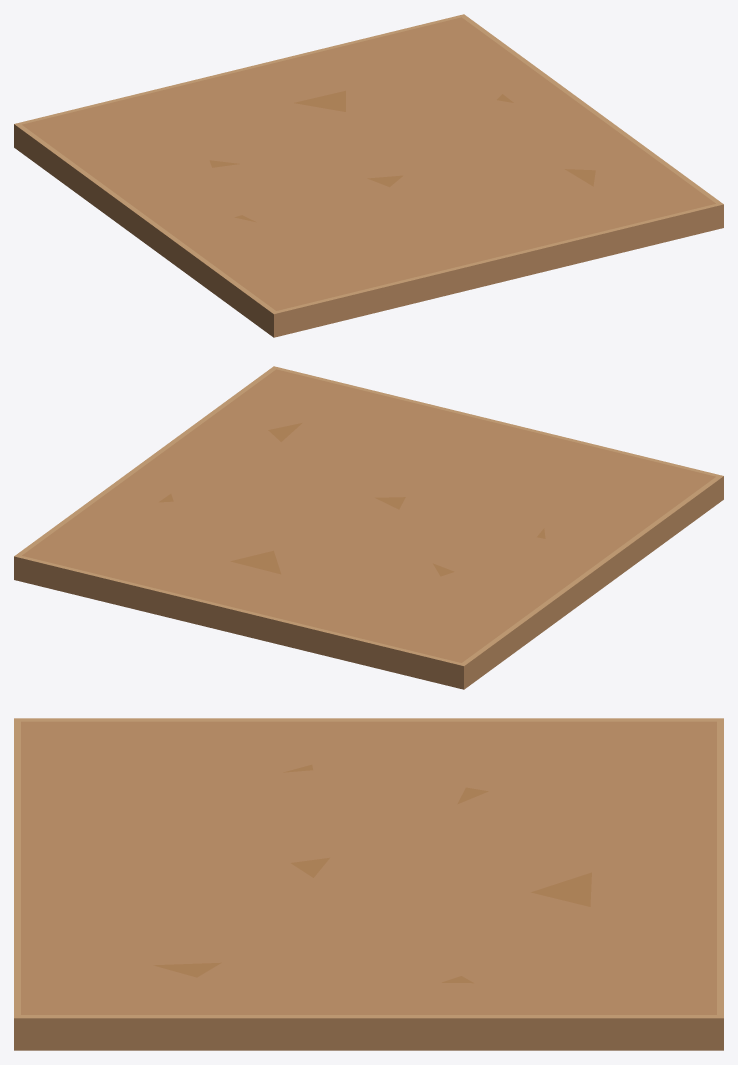
Rendered from ConcrateSlabs_E_1_3.obj.
3 views of the same model, one above another, from view 1: azimuth 30°, elevation 25°; view 2: azimuth 150°, elevation 25°; view 3: azimuth 270°, elevation 25° (orthographic). The views are drawn at different scales.
Parts seen in each view (by area): view 1: ConcrateSlabs_E_1_3; view 2: ConcrateSlabs_E_1_3; view 3: ConcrateSlabs_E_1_3.
Boxes of the visible parts, x1=… form: ConcrateSlabs_E_1_3: x1=14, y1=14, x2=723, y2=337; ConcrateSlabs_E_1_3: x1=14, y1=366, x2=723, y2=689; ConcrateSlabs_E_1_3: x1=14, y1=718, x2=723, y2=1050.
Size of the model in its own units: 8 by 0.4 by 8.
